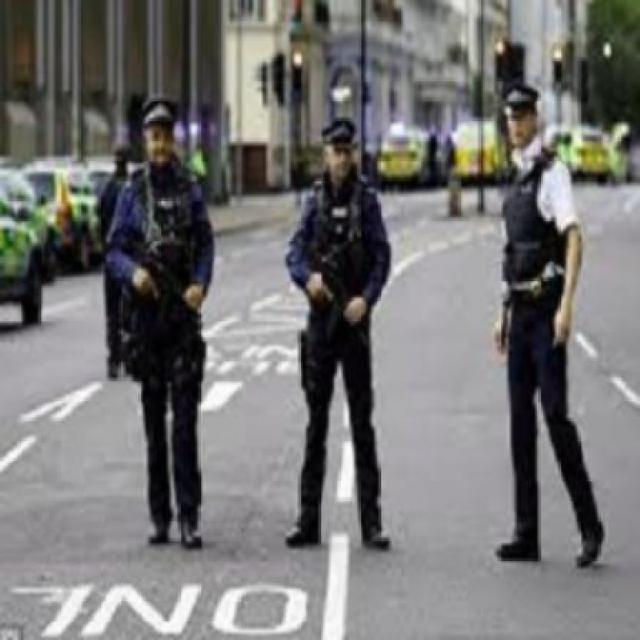Person: (477, 81, 609, 573), (104, 92, 216, 552), (286, 113, 396, 558)
